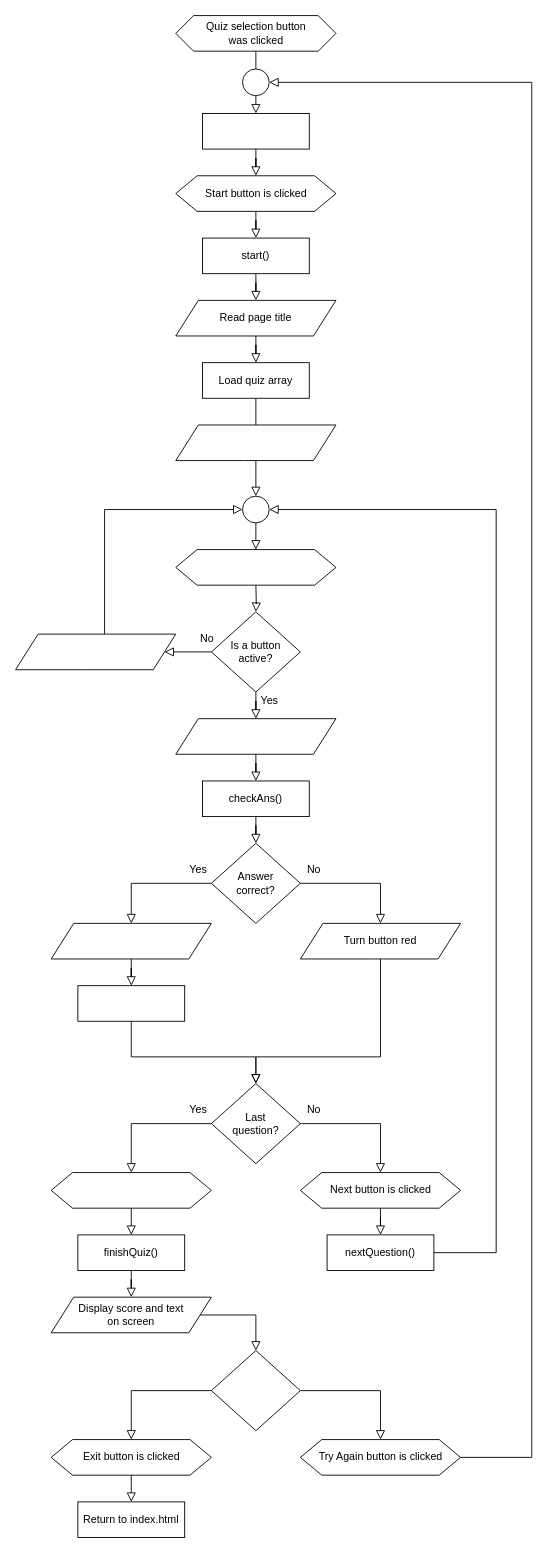
The diagram is 556 pixels wide and 1553 high, and some of its shapes have lost their labels. The centre of each missing label's shape, as x and y in pixels:
Confirm button is clicked: point 255,567
Display question & answers: point 255,442
Finish button is clicked: point 130,1190
Inform user to select an answer: point 95,651
Quiz page is loaded: point 255,131
Read answer ID: point 255,736
score ++: point 131,1003
Turn button green: point 130,940
Which button clicked?: point 255,1390
